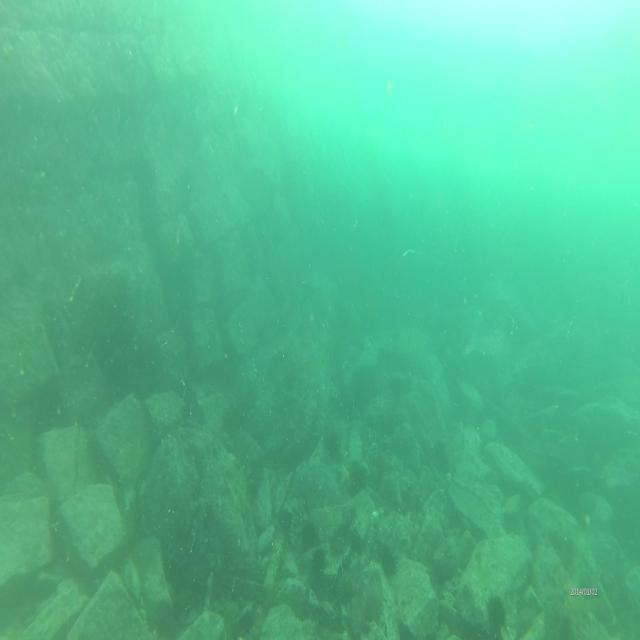echinus: (484, 590, 510, 639), (379, 540, 402, 582), (349, 457, 369, 494), (276, 504, 294, 544), (311, 544, 328, 579)
